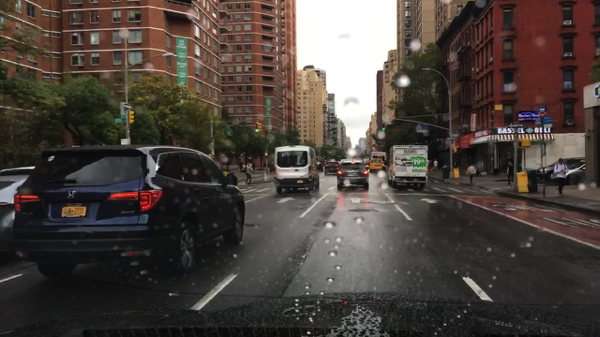car: (10, 143, 246, 277), (0, 164, 38, 264), (272, 145, 321, 194), (534, 156, 583, 184), (336, 159, 371, 191), (546, 159, 586, 186), (323, 161, 340, 176), (369, 158, 384, 172), (369, 150, 387, 161), (317, 159, 324, 172), (362, 158, 368, 170)
person: (551, 158, 569, 197), (466, 163, 477, 186), (243, 163, 254, 184), (506, 152, 513, 185), (237, 159, 244, 173), (433, 157, 438, 172)
traffic light: (129, 110, 136, 125), (520, 140, 530, 147), (254, 122, 258, 132), (258, 122, 261, 132), (452, 147, 457, 153), (382, 123, 385, 130)
traffic sign: (537, 104, 546, 117), (508, 123, 523, 128), (532, 117, 541, 125), (225, 129, 235, 136), (541, 116, 551, 123), (115, 118, 125, 124), (449, 133, 459, 137), (125, 104, 132, 109), (445, 137, 455, 140)
truck: (385, 145, 428, 191)
